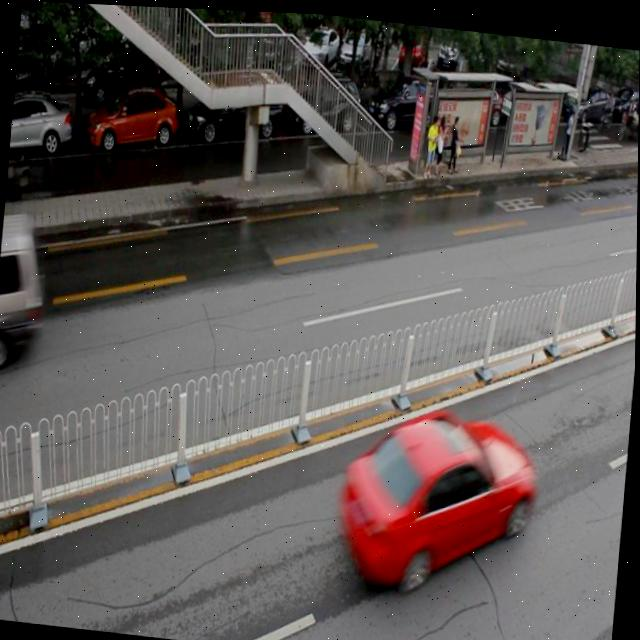car: (335, 399, 540, 589), (86, 80, 181, 160), (187, 71, 284, 147), (366, 64, 447, 135), (289, 68, 363, 138), (9, 95, 76, 162)
truck: (0, 206, 51, 370)
